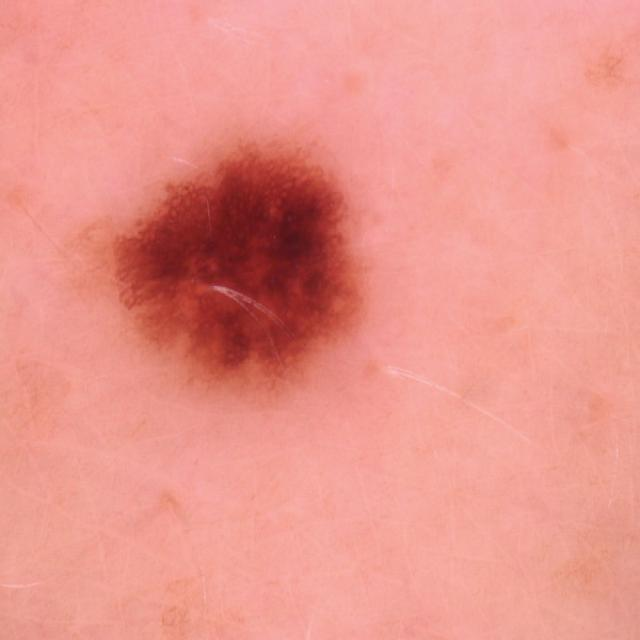NV: (62, 134, 370, 410)
